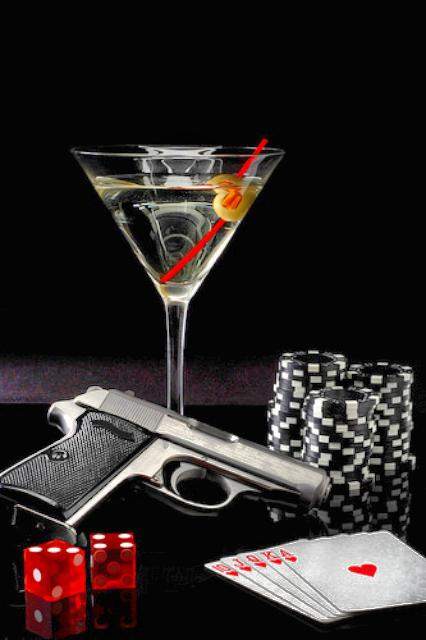pistol: (5, 384, 330, 546)
